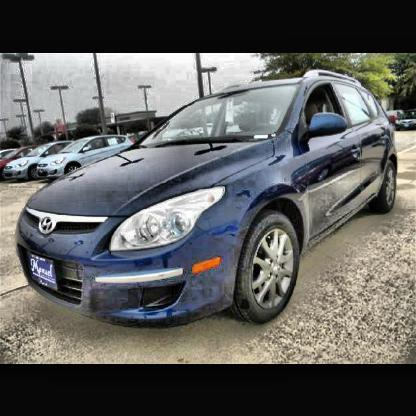Hyundai Elantra Touring Hatchback 2012: (16, 72, 400, 327)
